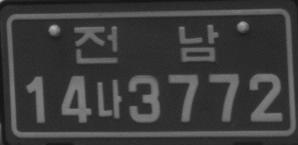1: (23, 75, 52, 124)
2: (248, 72, 284, 122)
3: (127, 73, 161, 124)
4: (60, 74, 93, 124)
7: (207, 72, 240, 122), (167, 73, 199, 122)
나: (95, 78, 122, 120)
전남_D: (73, 23, 220, 64)
